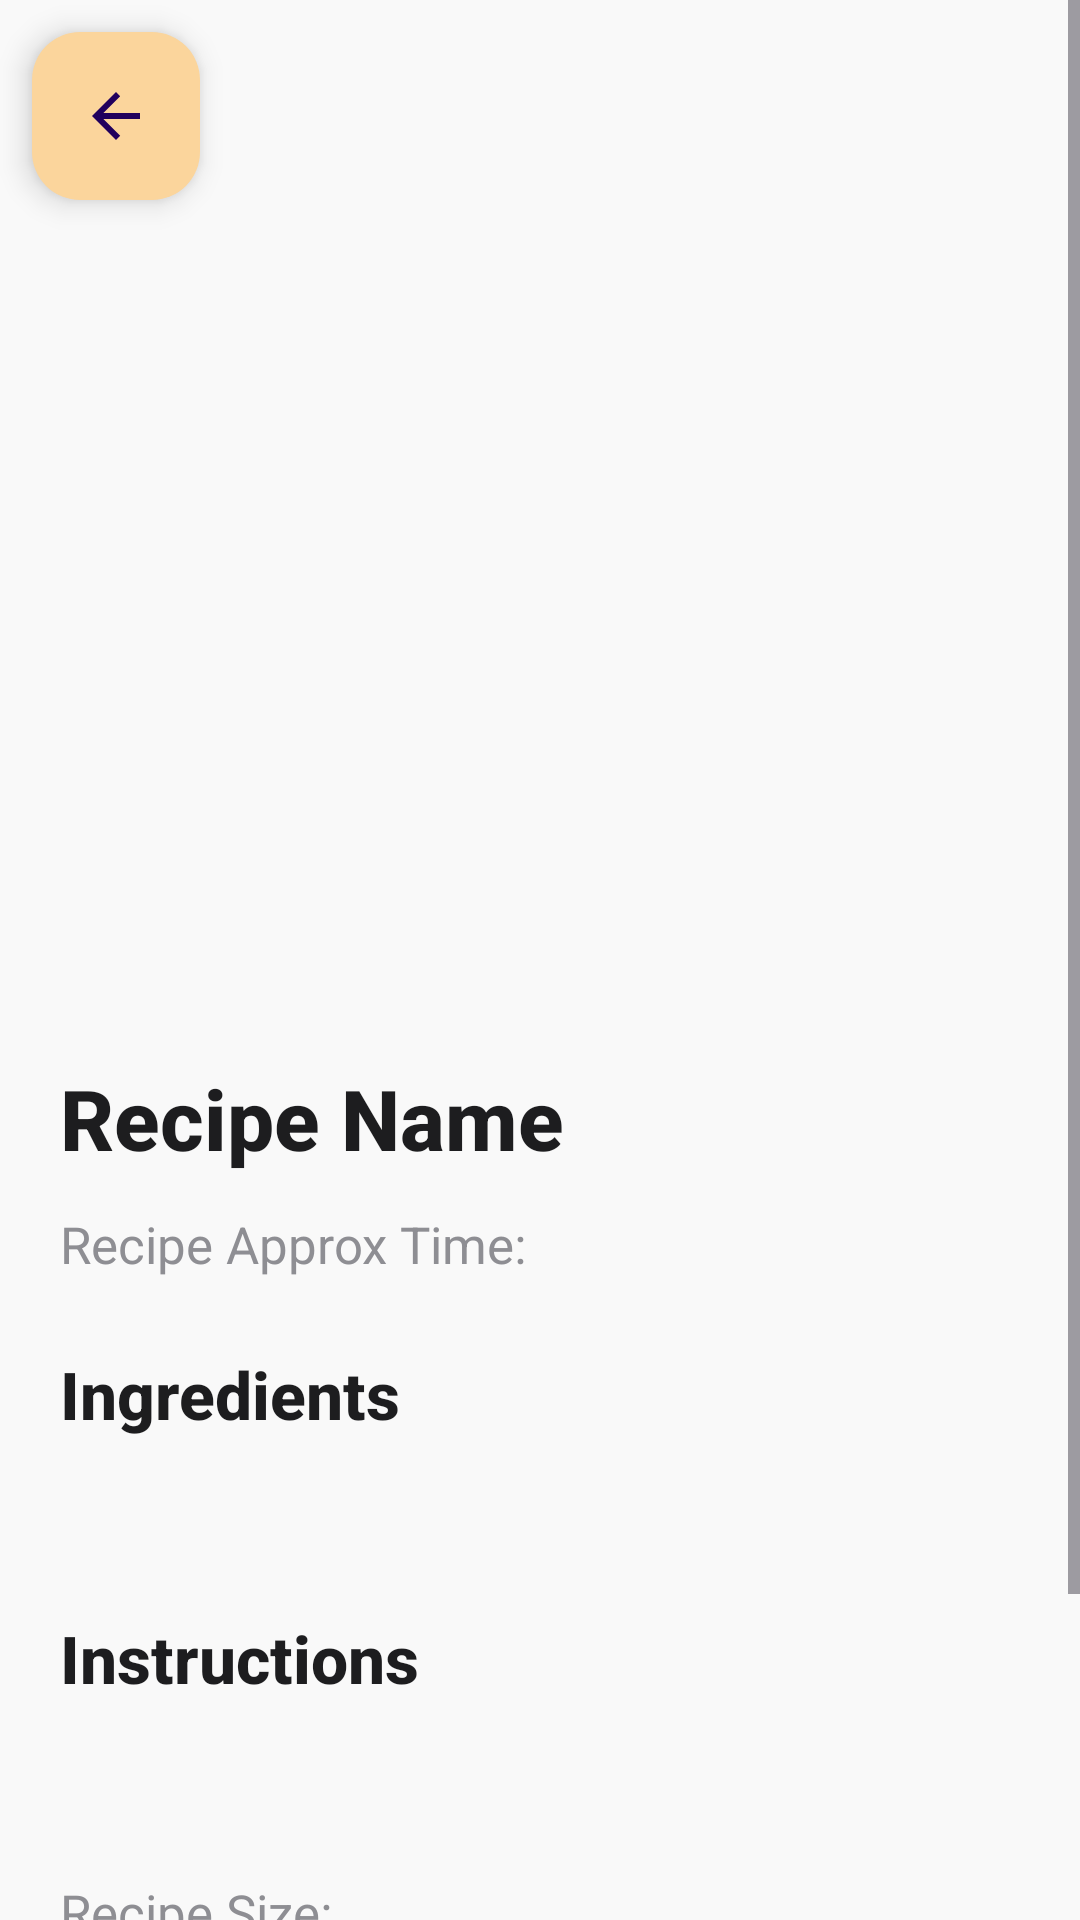

Icon bounding boxes for this 1080 x 1920 phone screenshot, format [x1, y1, x2, y2]:
Go Back: [32, 32, 200, 200]
